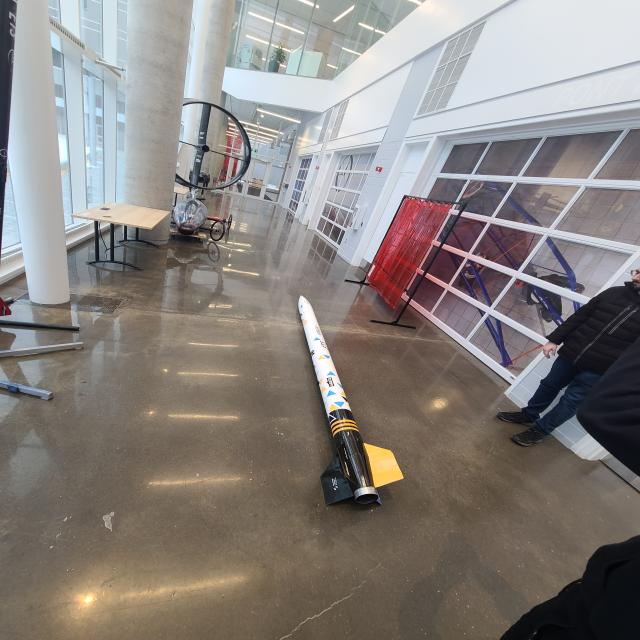Rocket: (296, 294, 404, 505)
